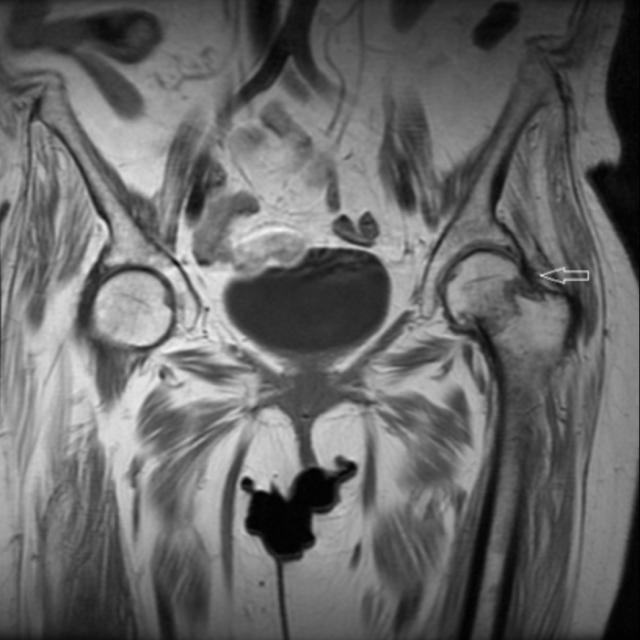Transverse Displaced: (496, 265, 564, 334)
